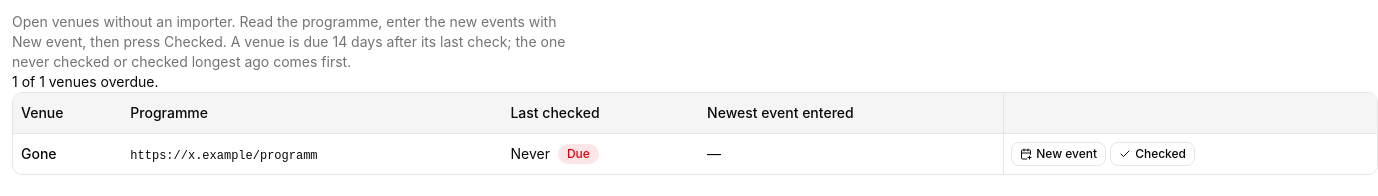
Test case: ManualVenuesView › shows the error and keeps the row when the PUT fails
This screenshot has width=1378, height=196.
Click the button with test id "checked": (1153, 154) top-left (1110, 142), bottom-right (1195, 166)
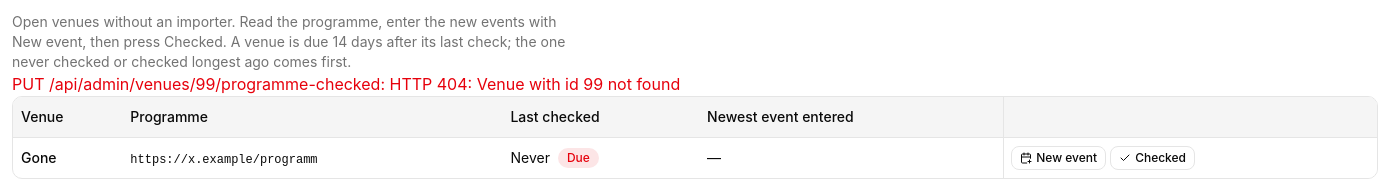
Check: the icon with test id "due" is shown, box top-left (558, 148), bottom-right (599, 168)
Check: the message shows "404", box top-left (12, 74), bottom-right (680, 94)
